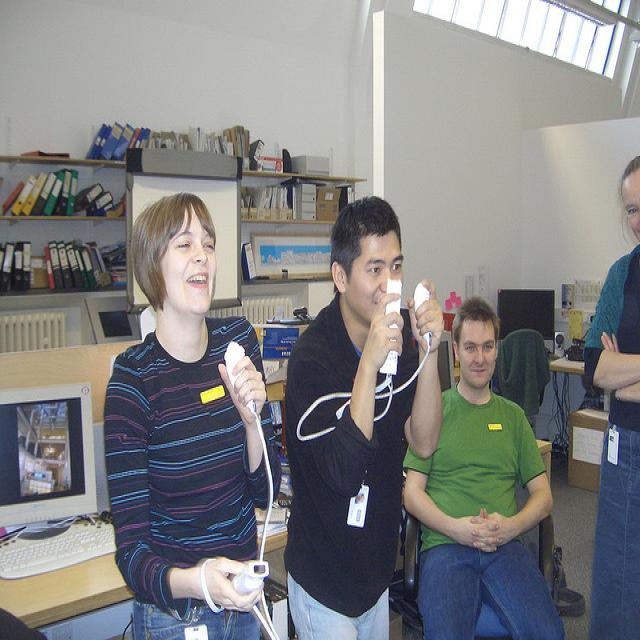chair: (492, 328, 549, 420), (391, 516, 422, 638)
dining table: (3, 494, 298, 631)
